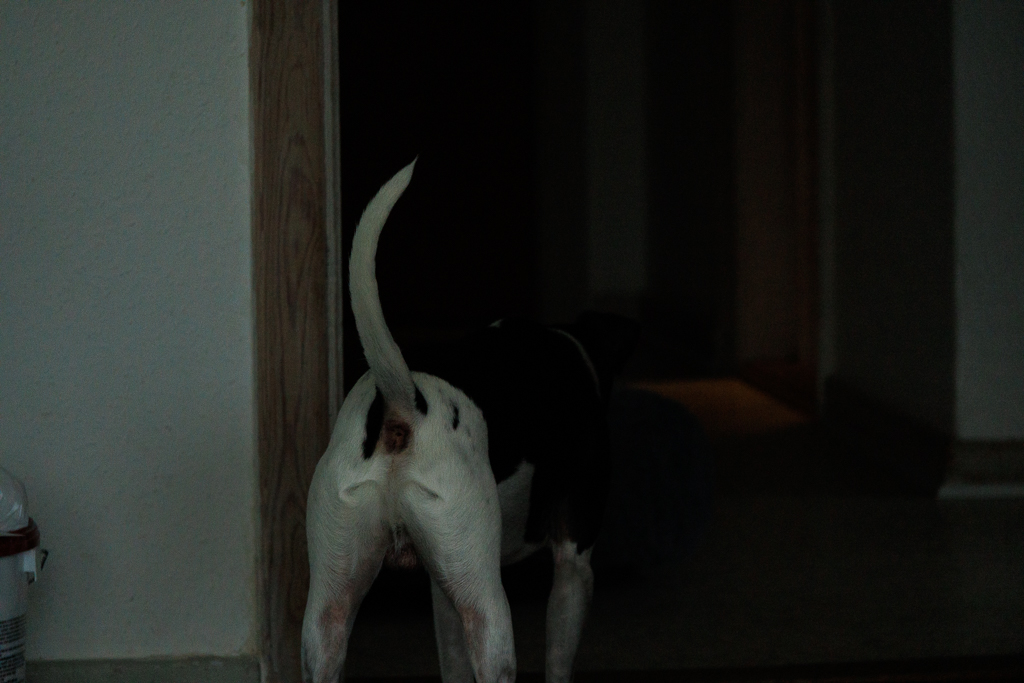Dog: (282, 149, 642, 683)
